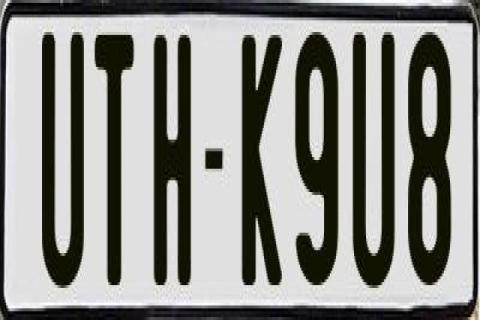0: (406, 23, 456, 280), (294, 23, 340, 276)
H: (152, 29, 192, 294)
K: (242, 27, 284, 280)
T: (94, 32, 138, 294)
U: (42, 24, 88, 288), (350, 29, 394, 299)
